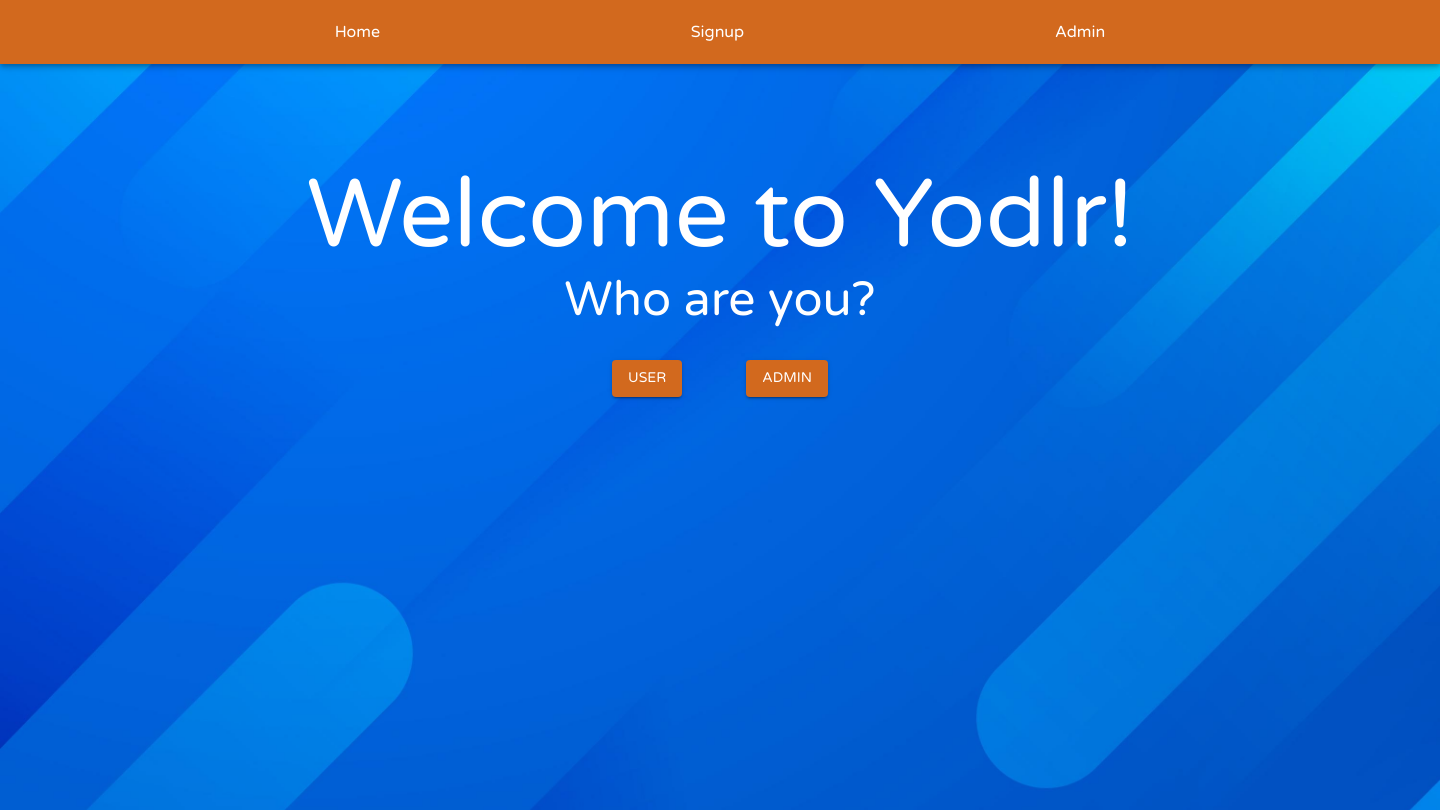
Scenario: admin link works
Check: the text "Admin Portal" is not shown
Click the link with test id "adminLink": (1080,32) top-left (1055, 22), bottom-right (1105, 42)
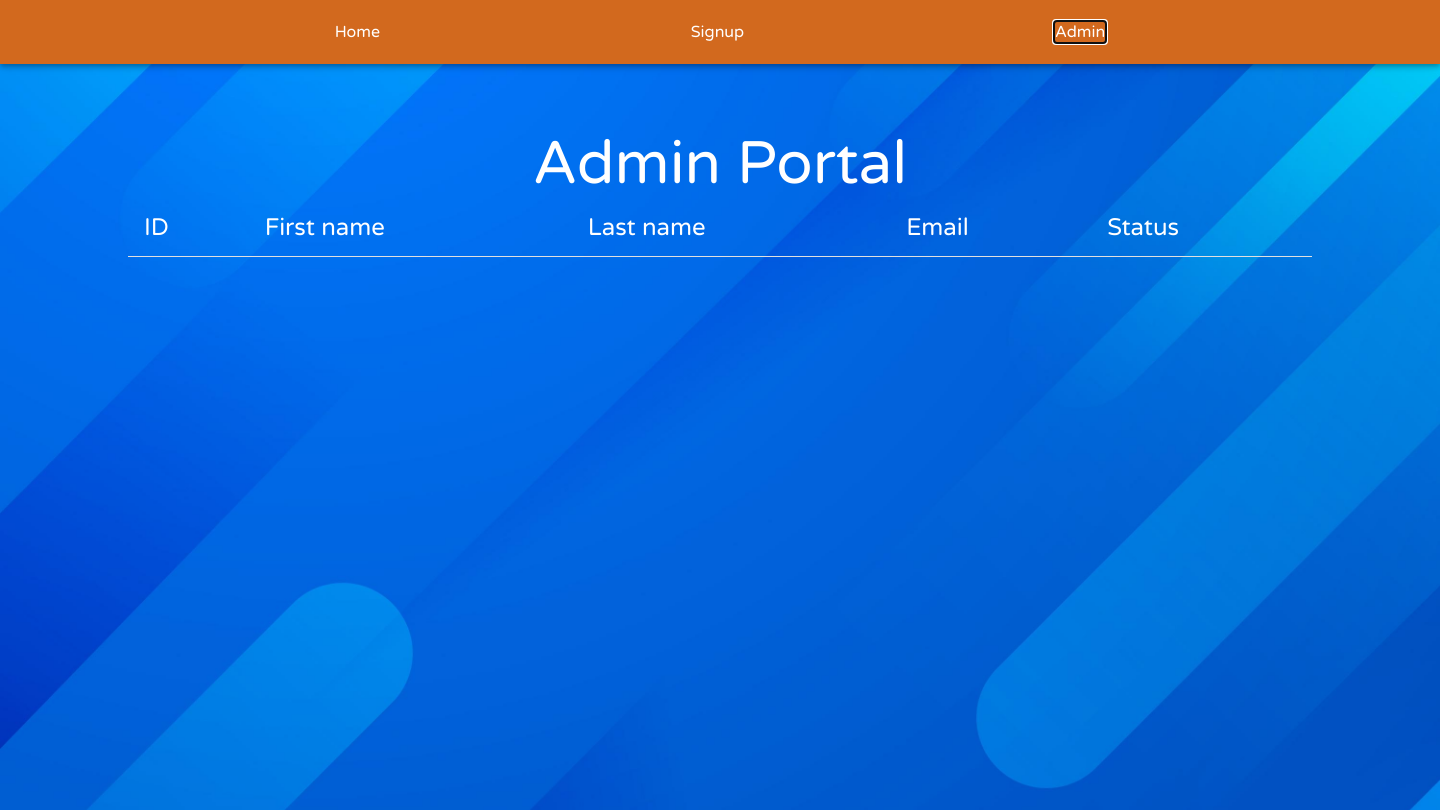
Check: the heading "Admin Portal" is shown, box top-left (533, 128), bottom-right (907, 200)
